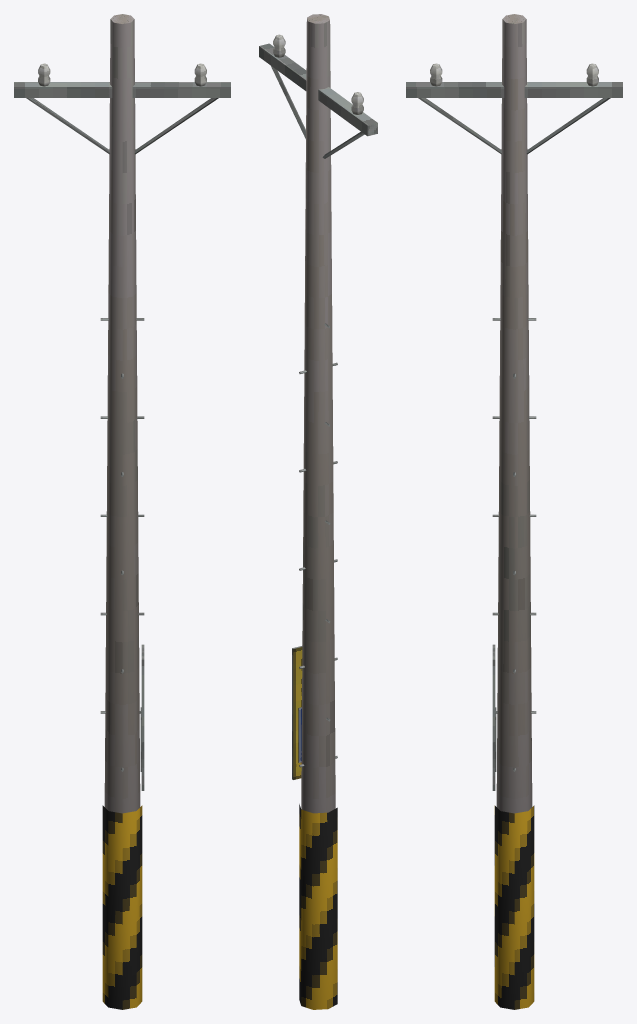
File: utility_pole.glb
The picture shows the model from 3 angles, left to right: view 1: azimuth 90°, elevation 25°; view 2: azimuth 210°, elevation 25°; view 3: azimuth 270°, elevation 25°; orthographic projection.
Parts seen in each view (by area): view 1: utility_pole; view 2: utility_pole; view 3: utility_pole.
Boxes of the visible parts, x1,y1,x2,y2 form: utility_pole: [14, 14, 230, 1009]; utility_pole: [259, 14, 377, 1009]; utility_pole: [406, 14, 622, 1009].
Bounding box in the file's own units: 0.36 × 9 × 1.8.
1 material, 1 textured.
